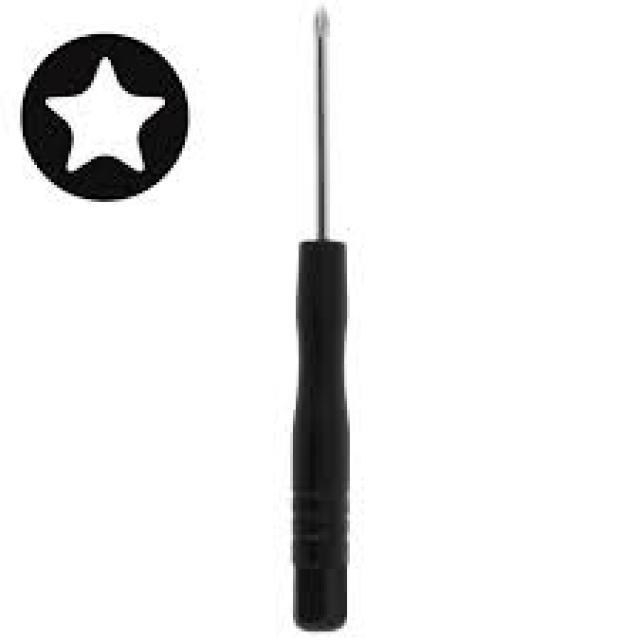screwdriver: (290, 0, 358, 631)
